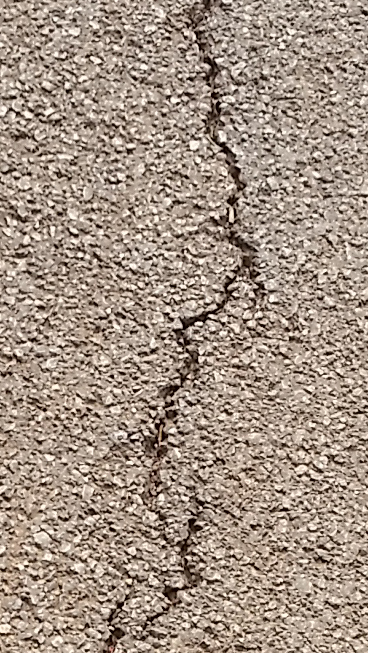A: (109, 4, 279, 653)
